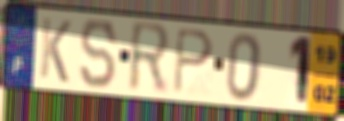0: (225, 31, 264, 104)
1: (286, 34, 313, 111)
K: (37, 15, 73, 85)
P: (172, 26, 215, 96)
R: (126, 19, 174, 97)
S: (79, 17, 119, 91)
